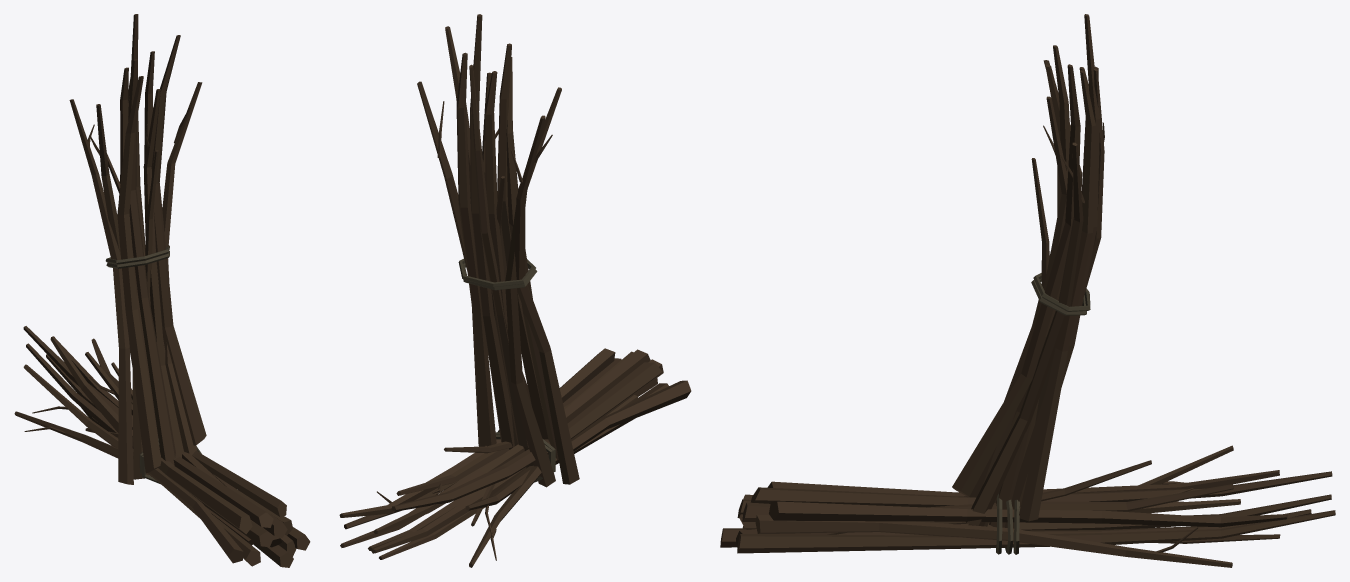
The picture shows the model from 3 angles, left to right: view 1: azimuth 30°, elevation 25°; view 2: azimuth 150°, elevation 25°; view 3: azimuth 270°, elevation 25°; orthographic projection. The views are drawn at different scales.
Visible parts, largest first — view 1: 柴堆_2, 柴堆_1; view 2: 柴堆_2, 柴堆_1; view 3: 柴堆_1, 柴堆_2.
Part boxes in pixels (x1,y1,x2,y2): 柴堆_2: (69, 14, 206, 484); 柴堆_1: (14, 326, 310, 567); 柴堆_2: (417, 14, 579, 487); 柴堆_1: (339, 348, 691, 567); 柴堆_1: (720, 445, 1335, 567); 柴堆_2: (952, 14, 1104, 528).
Size of the model in its own units: 61.54 by 208 by 218.
